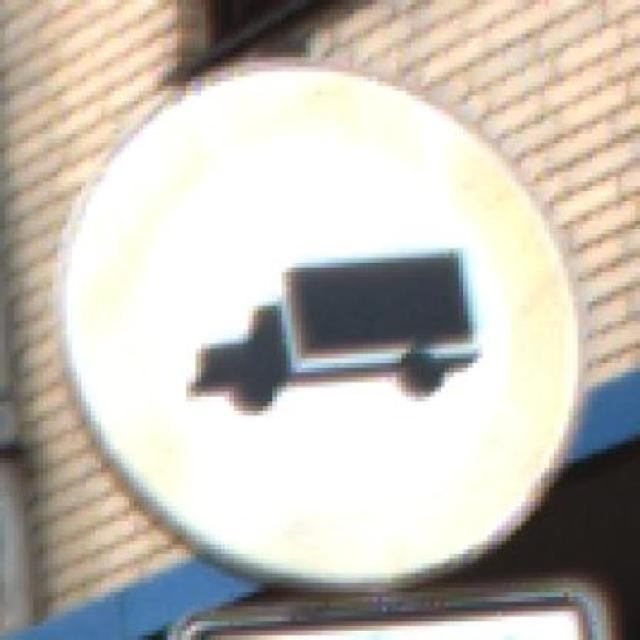Truck traffic is prohibited: (62, 43, 602, 602)
